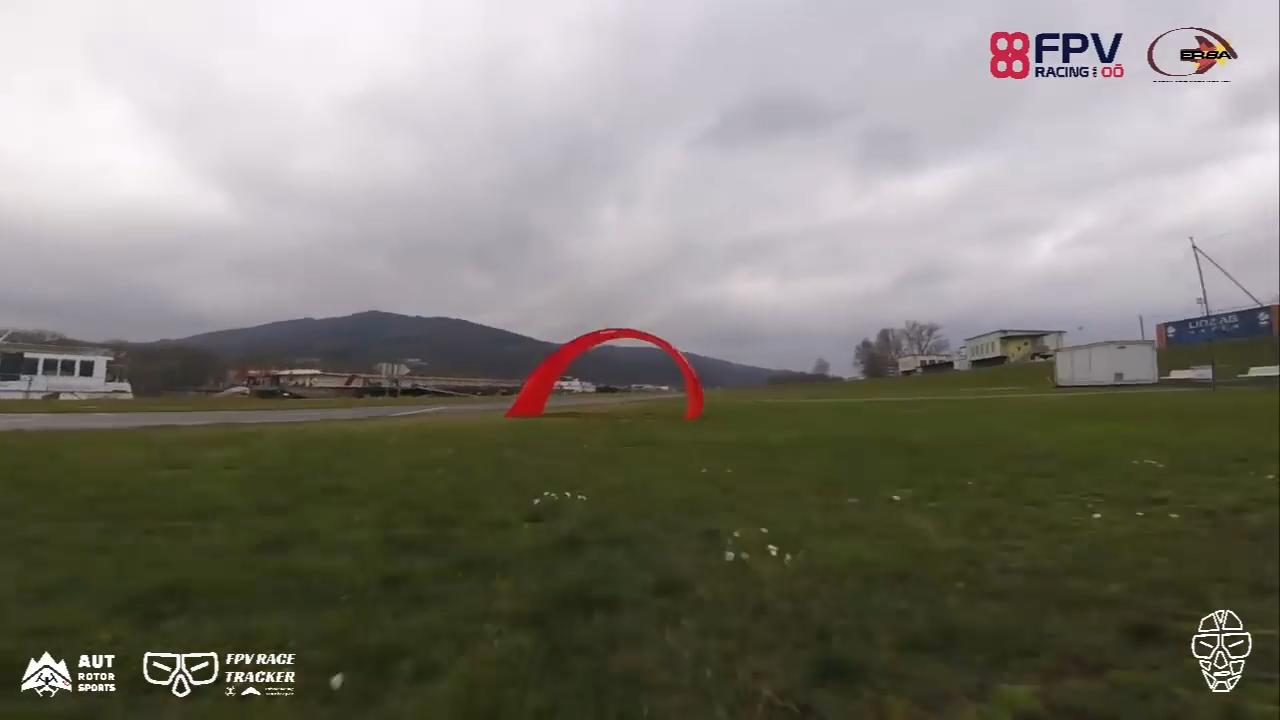gate: (510, 328, 703, 423)
